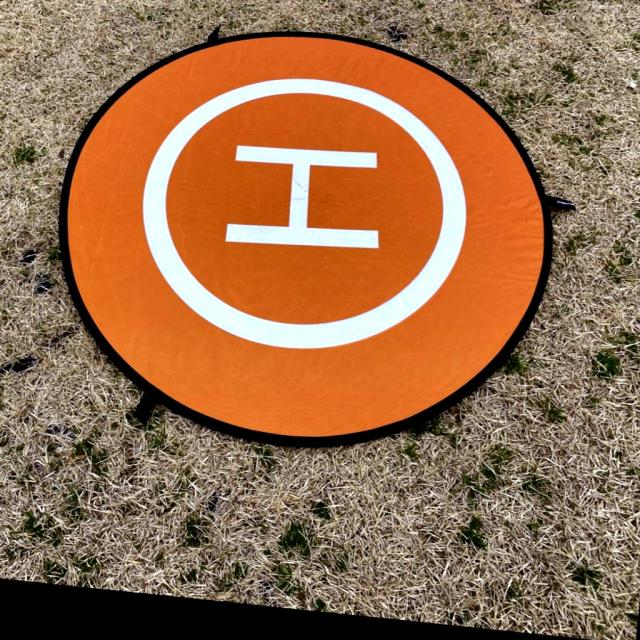helipad: (139, 74, 475, 353)
